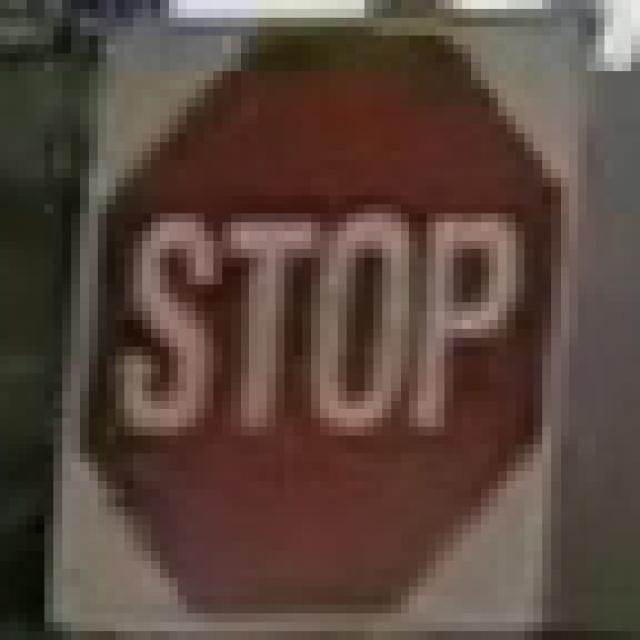mandatorystop_sign: (71, 18, 560, 613)
